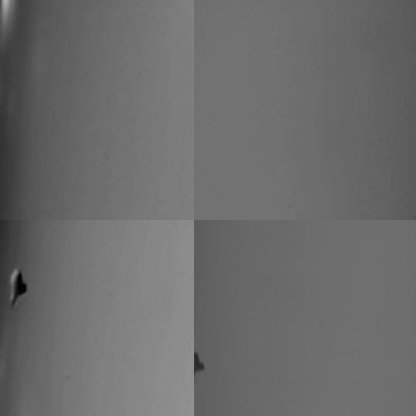kongdong: (6, 267, 31, 312), (192, 353, 208, 373)
